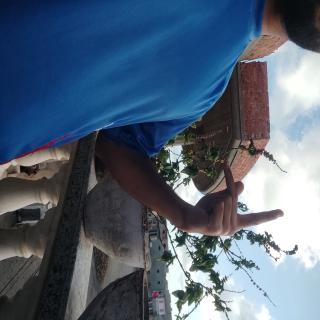DHAA: (119, 46, 188, 192)
